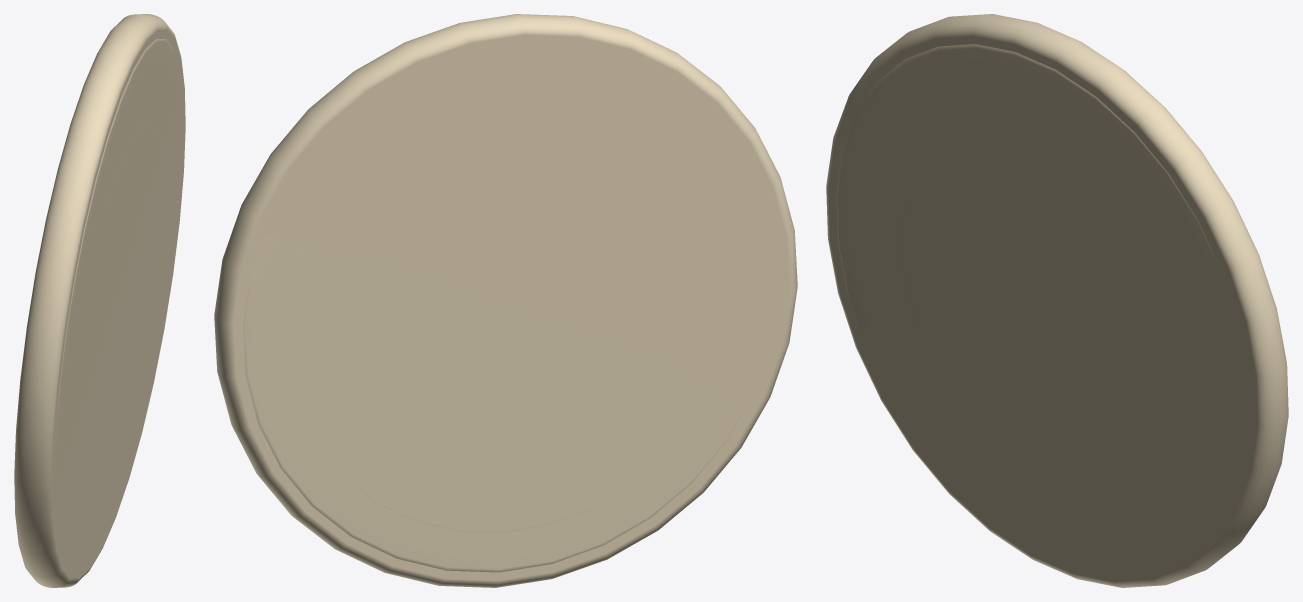
The picture shows the model from 3 angles, left to right: view 1: azimuth 30°, elevation 25°; view 2: azimuth 150°, elevation 25°; view 3: azimuth 270°, elevation 25°; orthographic projection. The views are drawn at different scales.
Parts seen in each view (by area): view 1: Cylinder004001, Cylinder005001, Cylinder009001, Cylinder007001, Cylinder005002; view 2: Cylinder004001, Cylinder007001, Cylinder005002, Cylinder009001, Cylinder008001, Cylinder005001; view 3: Cylinder004001, Cylinder009001, Cylinder007001, Cylinder005001, Cylinder005002.
Boxes of the visible parts, x1,y1,x2,y2 form: Cylinder004001: [55, 90, 182, 567]; Cylinder005001: [27, 14, 185, 587]; Cylinder009001: [54, 39, 180, 502]; Cylinder007001: [74, 123, 161, 438]; Cylinder005002: [14, 14, 145, 587]; Cylinder004001: [266, 45, 778, 403]; Cylinder007001: [328, 251, 676, 488]; Cylinder005002: [214, 16, 797, 587]; Cylinder009001: [243, 231, 749, 572]; Cylinder008001: [283, 246, 712, 532]; Cylinder005001: [214, 14, 754, 420]; Cylinder004001: [860, 255, 1249, 570]; Cylinder009001: [836, 44, 1216, 329]; Cylinder007001: [901, 128, 1161, 325]; Cylinder005001: [826, 14, 1281, 587]; Cylinder005002: [949, 14, 1288, 570].
Bounding box in the file's own units: 53240 × 74259 × 56122.
